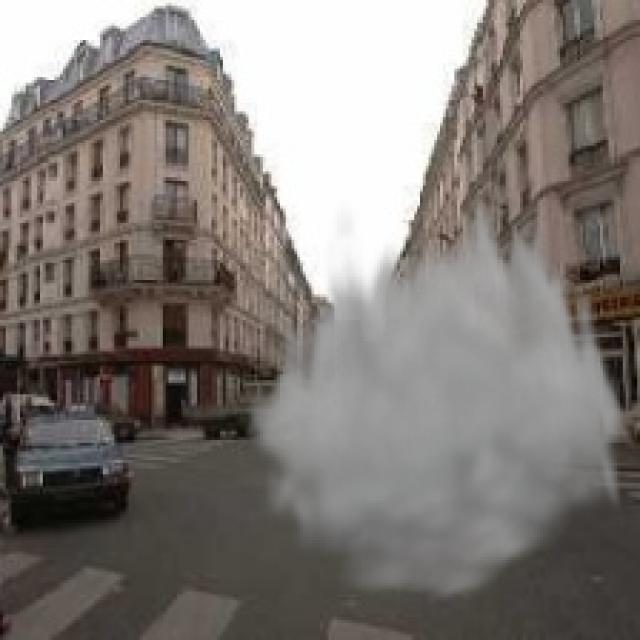Smoke: (240, 192, 629, 608)
